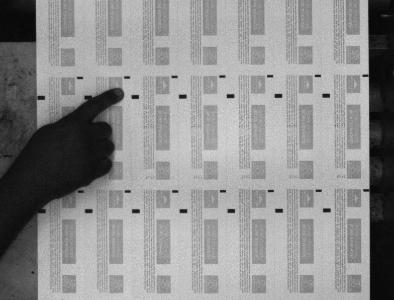backgroundclutter: (31, 271, 35, 274)
qblock: (275, 208, 283, 213), (37, 95, 45, 100), (323, 93, 331, 98), (179, 94, 187, 99), (179, 209, 188, 213), (131, 95, 140, 99), (228, 209, 236, 213), (323, 208, 331, 212), (132, 209, 140, 213), (275, 94, 283, 98), (85, 209, 93, 213), (227, 94, 235, 98), (84, 95, 92, 99), (38, 209, 46, 213)
smallqblock: (267, 75, 274, 78), (219, 75, 226, 78), (124, 76, 131, 79), (220, 190, 227, 193), (172, 190, 179, 193), (268, 189, 275, 192), (363, 189, 370, 192), (315, 74, 321, 77), (77, 76, 83, 79), (172, 75, 178, 78), (363, 74, 369, 77), (316, 189, 322, 192), (125, 190, 131, 193), (78, 190, 84, 193)
